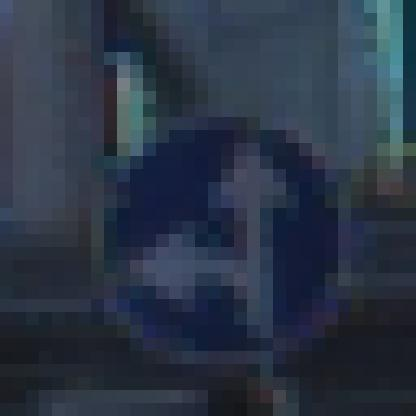Straight or Left: (79, 79, 339, 339)
